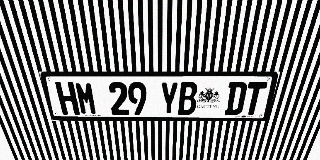2: (108, 82, 129, 115)
9: (127, 82, 147, 115)
B: (178, 82, 198, 115)
D: (224, 82, 248, 115)
H: (55, 82, 80, 115)
M: (74, 82, 98, 115)
T: (242, 82, 268, 115)
Y: (160, 82, 179, 115)
